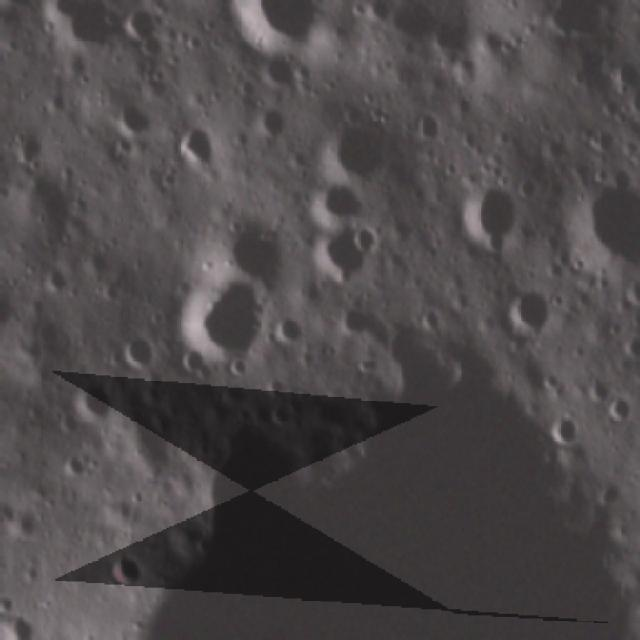crater: (164, 264, 264, 364), (570, 169, 638, 273), (214, 211, 288, 287), (219, 1, 327, 52), (447, 181, 519, 248), (327, 124, 384, 187), (38, 5, 117, 44), (538, 5, 618, 41), (506, 276, 546, 342), (306, 235, 368, 277), (304, 188, 370, 223), (107, 324, 151, 371), (66, 380, 116, 420), (427, 15, 468, 57), (180, 122, 214, 170), (107, 550, 142, 592), (1, 502, 38, 540), (342, 3, 402, 26), (116, 95, 153, 132), (130, 12, 158, 60), (594, 96, 629, 132), (257, 56, 294, 90), (604, 59, 638, 95), (270, 315, 304, 348), (256, 107, 287, 142), (506, 172, 543, 200), (412, 110, 442, 144), (84, 245, 121, 272), (40, 265, 69, 298), (582, 373, 612, 404), (548, 413, 578, 444), (60, 449, 88, 482), (342, 309, 375, 334), (14, 134, 41, 163), (50, 410, 79, 436), (227, 74, 258, 98), (592, 480, 620, 505), (353, 227, 382, 250), (610, 398, 633, 427), (267, 406, 293, 428), (265, 376, 289, 398), (296, 60, 316, 83), (22, 565, 43, 586), (316, 342, 338, 362), (45, 92, 64, 114), (612, 520, 631, 542), (539, 372, 561, 390), (112, 140, 133, 158), (550, 286, 561, 312), (127, 488, 142, 506)
